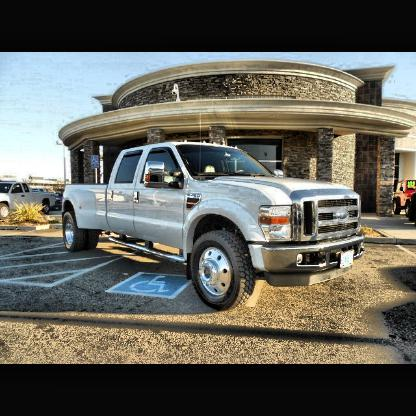Ford F-450 Super Duty Crew Cab 2012: (61, 140, 367, 312)
